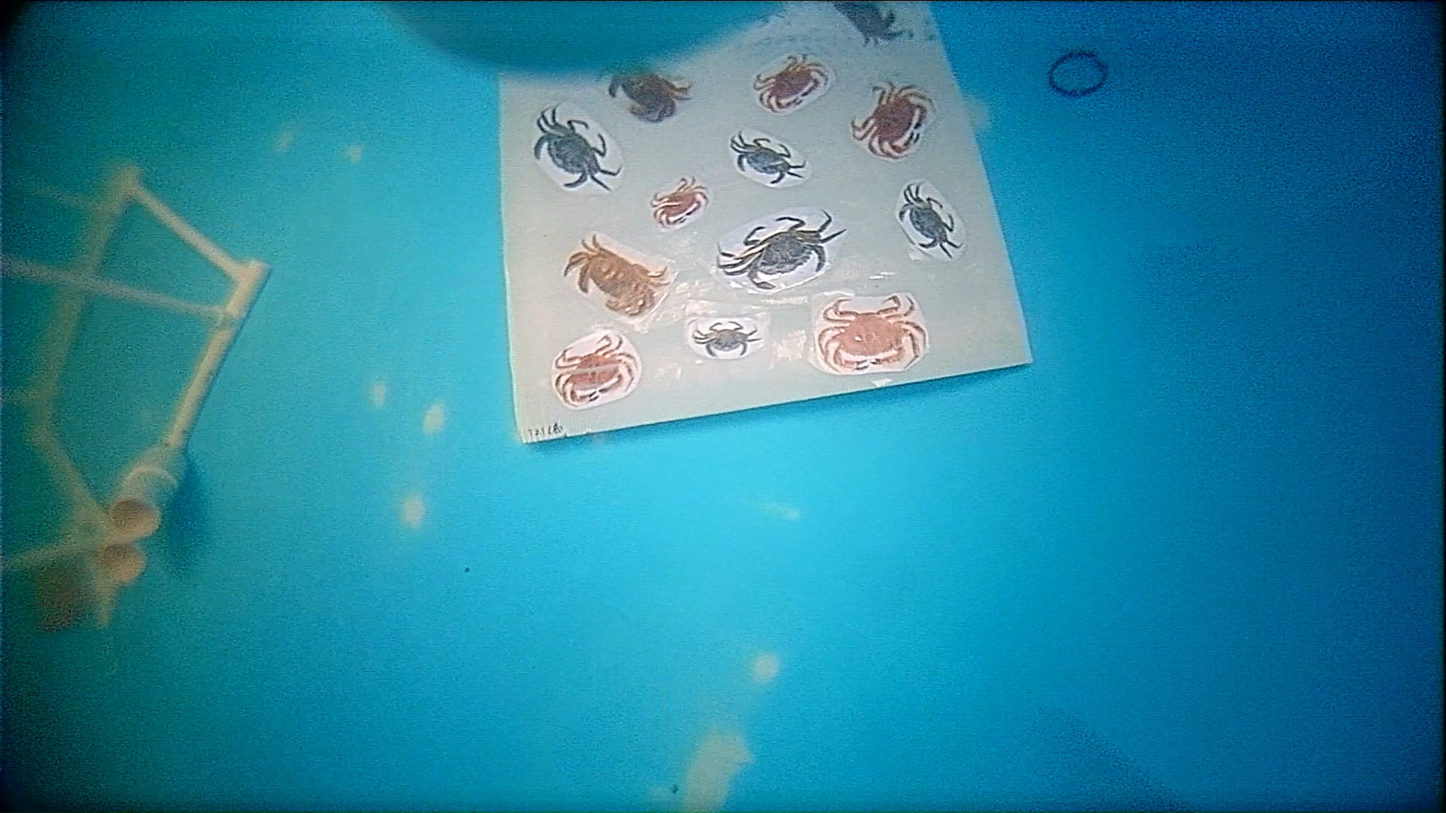GreenCrab: (719, 212, 845, 290), (533, 106, 619, 190), (899, 184, 961, 256), (730, 132, 804, 184)
